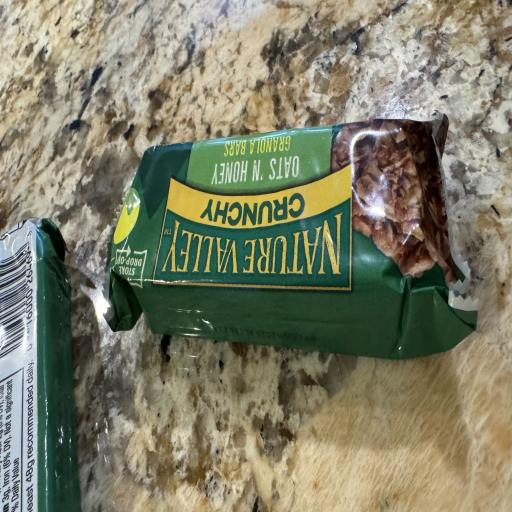granola: (109, 115, 476, 358), (0, 219, 80, 511)
